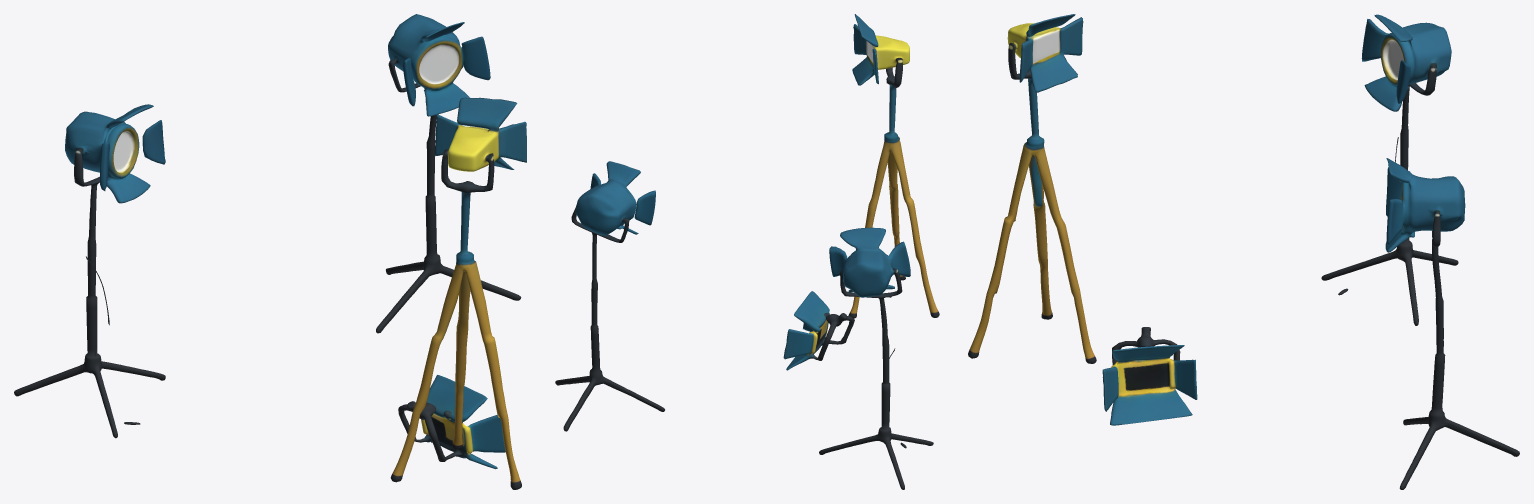
File: original.glb
3 views of the same model, side by side, from view 1: azimuth 30°, elevation 25°; view 2: azimuth 150°, elevation 25°; view 3: azimuth 270°, elevation 25° (orthographic). The views are drawn at different scales.
Visible parts, largest first — view 1: model; view 2: model; view 3: model.
Boxes of the visible parts, box(x1,y1,x2,y2) form: model: box(14, 14, 526, 489); model: box(555, 14, 939, 489); model: box(968, 14, 1519, 489).
Bounding box in the file's own units: 1.84 × 1.48 × 1.9.
Materials: 1 (1 with a texture image).
